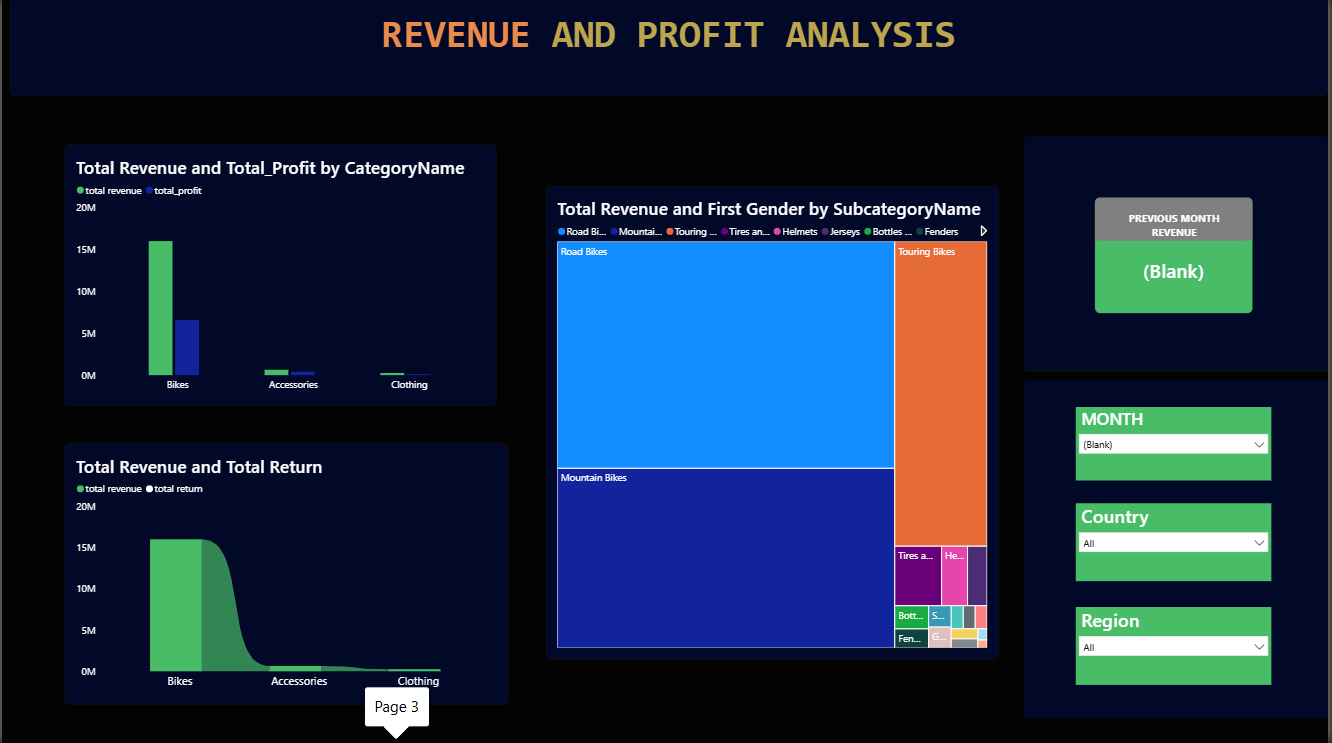

The page's visual inventory and layout, read from the dashboard file:
{"tool":"powerbi","page":{"name":"Page 3","canvas":[1920,1080],"ordinal":2},"visuals":[{"type":"textbox","box":[10.9,0,1909.2,143],"z":0},{"type":"clusteredColumnChart","title":"Total Revenue and Total_Profit by CategoryName","fields":{"Category":["Product-Categories.CategoryName"],"Y":["Calendar (1).total revenue","Calendar (1).total_profit"]},"box":[90.9,214.3,625.4,378.7],"z":1000},{"type":"treemap","title":"Total Revenue and First Gender by SubcategoryName","fields":{"Group":["Product-Subcategories.SubcategoryName"],"Values":["Calendar (1).total revenue"]},"box":[788,274,656,686],"z":2000},{"type":"columnChart","title":"Total Revenue and Total Return","fields":{"Category":["Product-Categories.CategoryName"],"Y":["Calendar (1).total revenue","Calendar (1).total return"]},"box":[90,646,642,378],"z":3000},{"type":"textbox","box":[1480.3,203.4,439.3,337.6],"z":4000},{"type":"card","title":"PREVIOUS MONTH REVENUE","fields":{"Values":["Calendar (1).pre_mon_rev"]},"box":[1582,290,229.4,168.8],"z":5000},{"type":"textbox","box":[1480.3,556.2,439.3,489.1],"z":5001},{"type":"slicer","fields":{"Values":["Calendar (1).month name"]},"box":[1553.9,593,283.5,106],"z":5002},{"type":"slicer","fields":{"Values":["Territories.Country"]},"box":[1553.9,733.6,283.5,112.5],"z":5003},{"type":"slicer","fields":{"Values":["Territories.Region"]},"box":[1553.9,883,283.5,112.5],"z":5004}]}

Visuals, with their boxes in screenshot pixels (x1, y1, x2, y2), scaled from the page's 1920x1080 canvas onto the 1332x743 screenshot:
textbox: [8, 0, 1331, 98]
"Total Revenue and Total_Profit by CategoryName" clusteredColumnChart: [63, 147, 497, 408]
"Total Revenue and First Gender by SubcategoryName" treemap: [547, 189, 1002, 660]
"Total Revenue and Total Return" columnChart: [62, 444, 508, 704]
textbox: [1027, 140, 1331, 372]
"PREVIOUS MONTH REVENUE" card: [1098, 200, 1257, 316]
textbox: [1027, 383, 1331, 719]
slicer - Calendar (1).month name: [1078, 408, 1275, 481]
slicer - Territories.Country: [1078, 505, 1275, 582]
slicer - Territories.Region: [1078, 607, 1275, 685]
